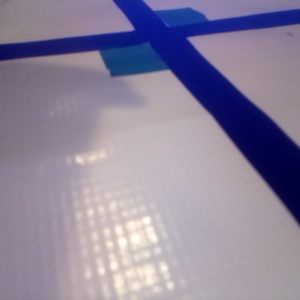bottom_left: (99, 34, 186, 76)
top_right: (135, 6, 209, 34)
